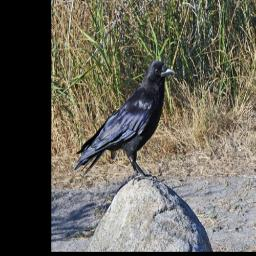Crow: (73, 56, 177, 187)
